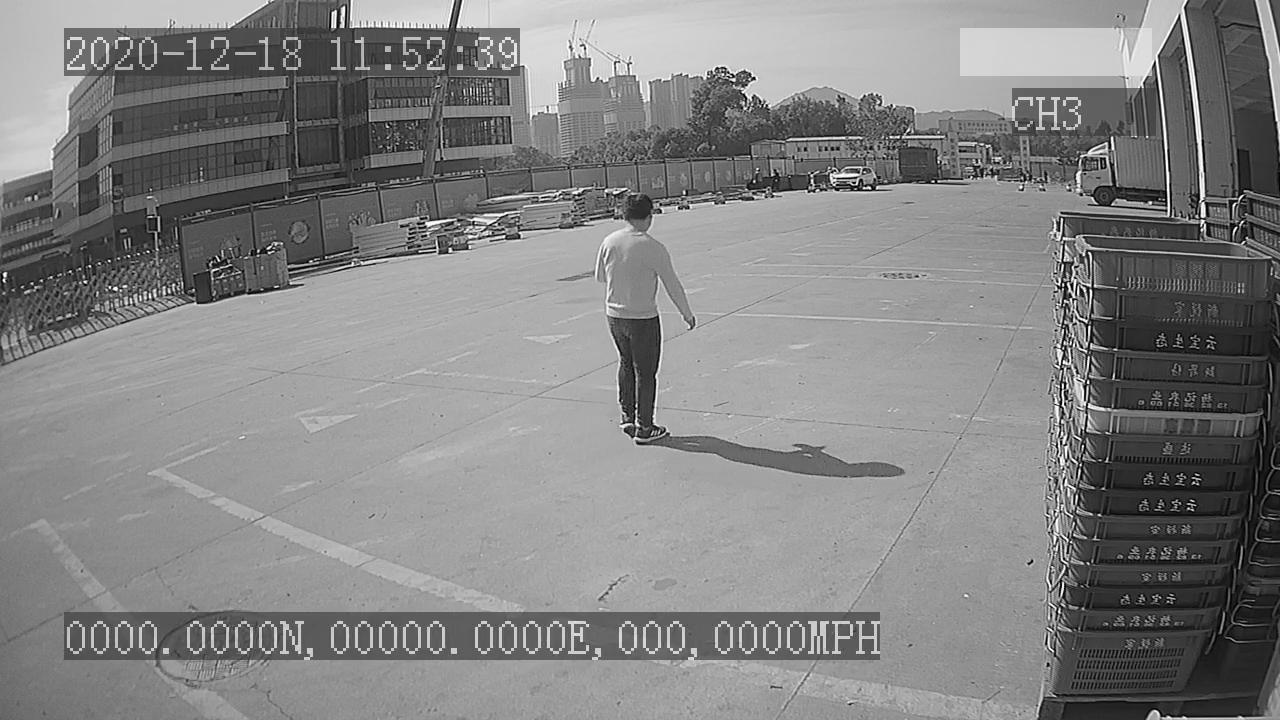person: (590, 188, 704, 444)
